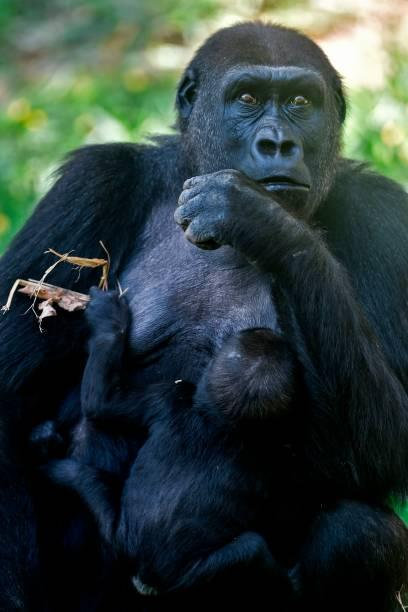gorille_Autres: (15, 17, 408, 609)
